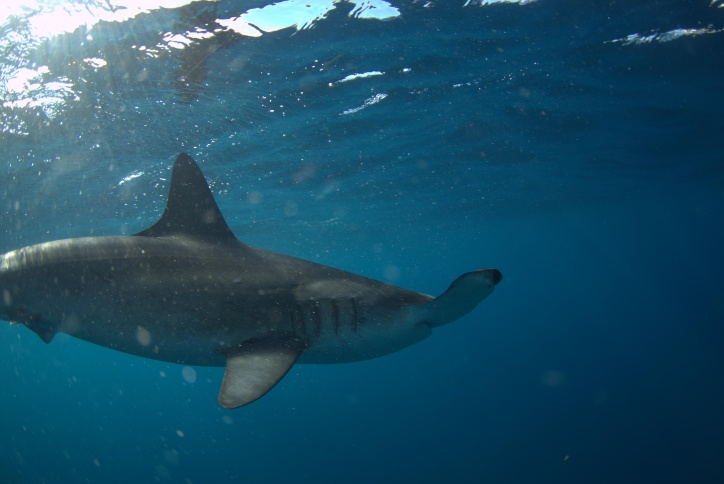Hammer: (1, 127, 569, 459)
